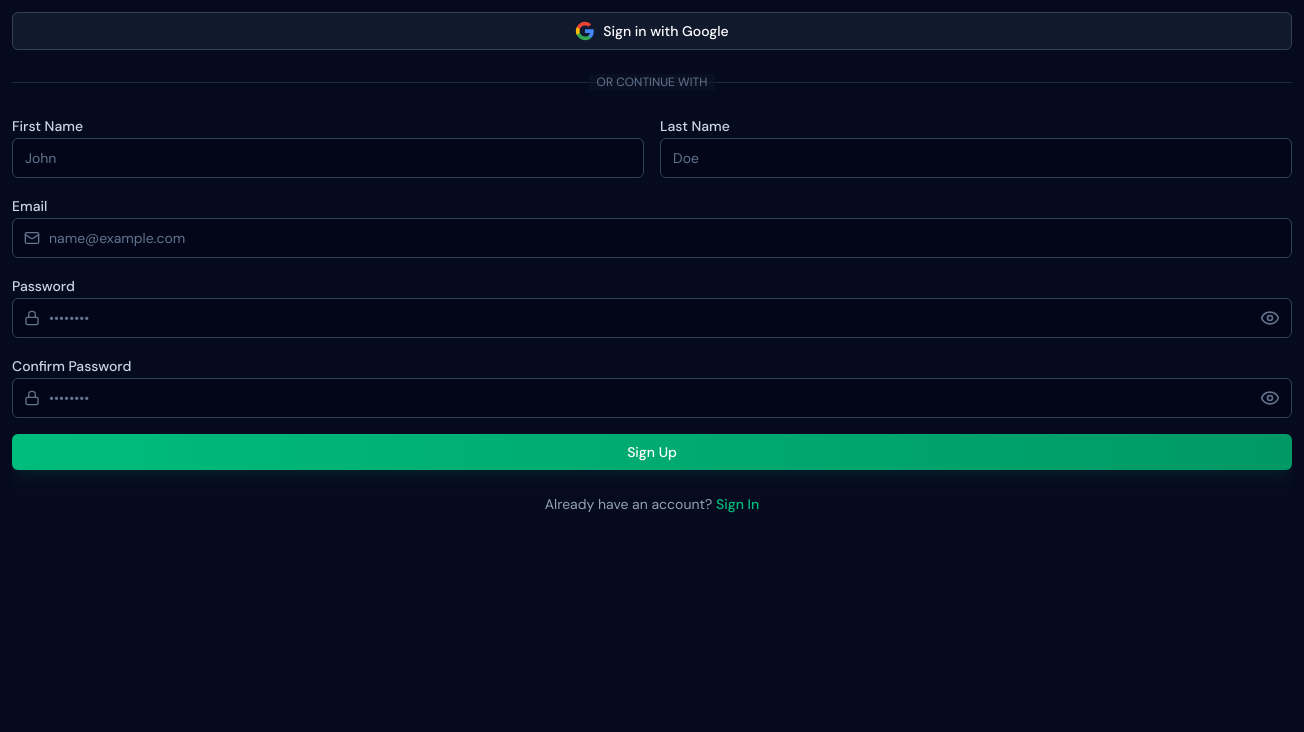
Test: AuthForms › toggles confirm password visibility
// Toggle Confirm Password
Click the button named "Show confirm password" at (1270, 398), box [1260,388,1280,408]
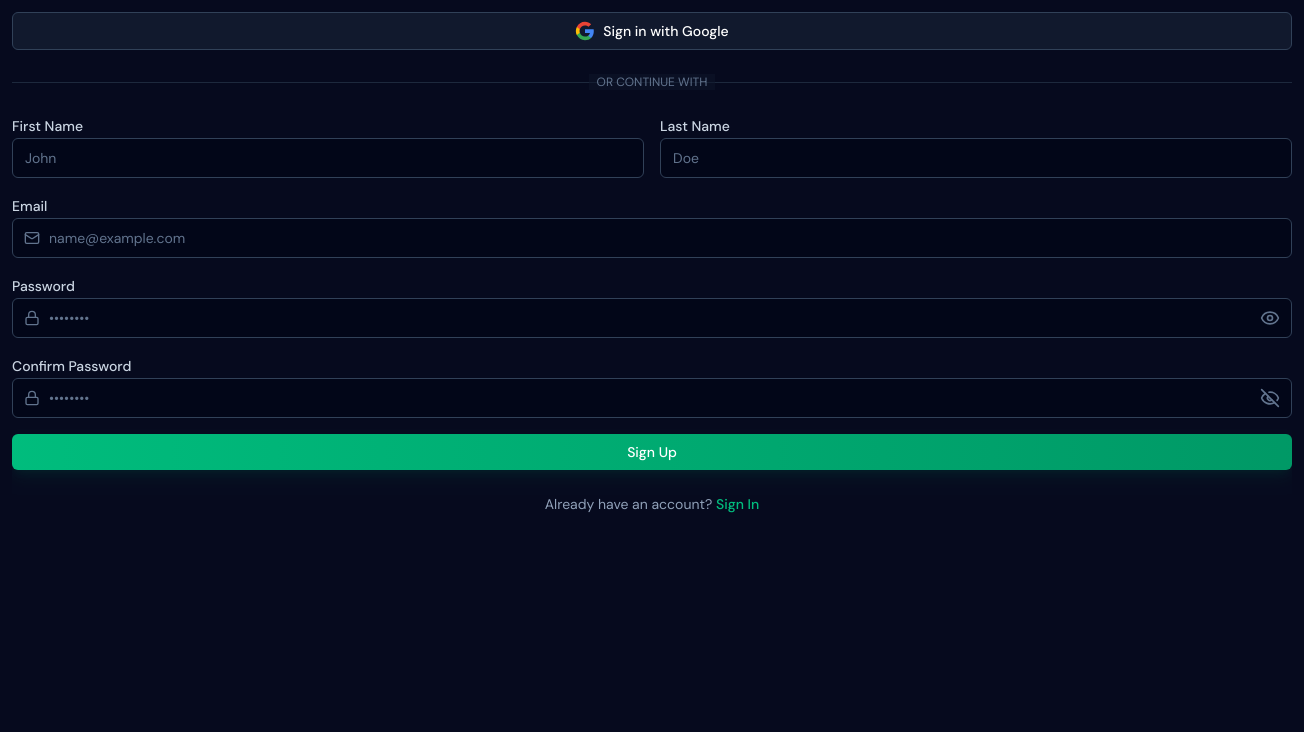
expect the button named "Hide confirm password" is shown: met, box [1260,388,1280,408]
